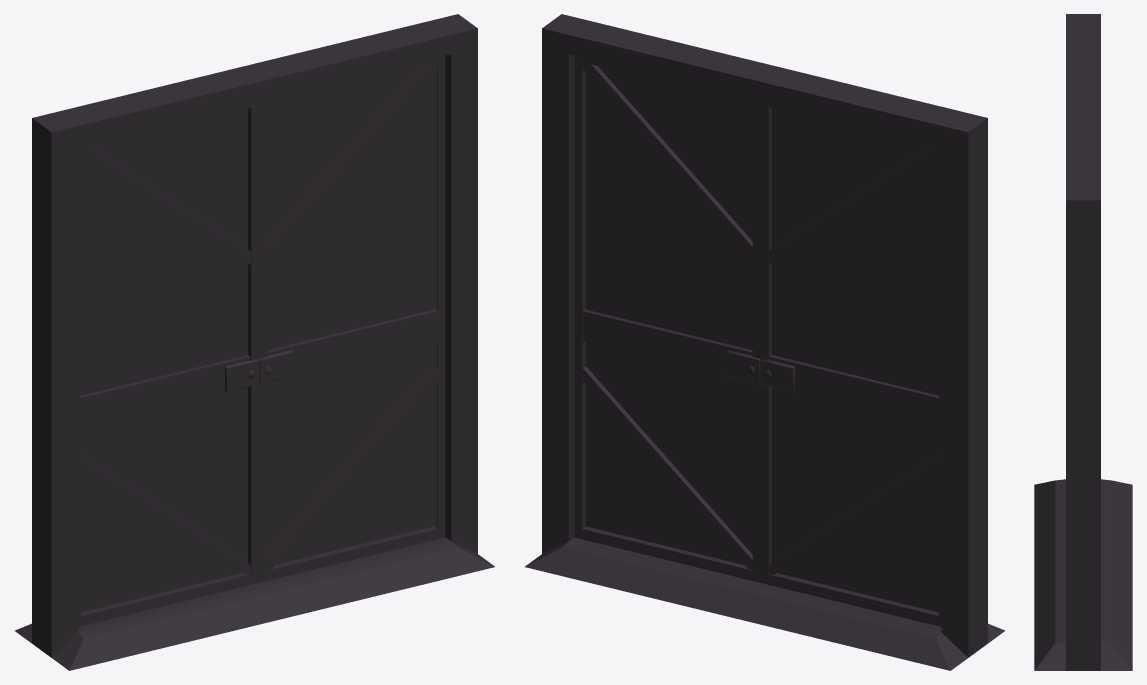
Rendered from new dveri.fbx.
3 renders of one model, left to right at view 1: azimuth 30°, elevation 25°; view 2: azimuth 150°, elevation 25°; view 3: azimuth 270°, elevation 25°, orthographic. The views are drawn at different scales.
Parts seen in each view (by area): view 1: _aa21ab0dd81437a94ac40133b706b85_obj_cleaner_materialmerger_, Doorway_Baked_002_2; view 2: _aa21ab0dd81437a94ac40133b706b85_obj_cleaner_materialmerger_, Doorway_Baked_002_2; view 3: Doorway_Baked_002_2.
Part boxes in pixels (x1,y1,x2,y2): _aa21ab0dd81437a94ac40133b706b85_obj_cleaner_materialmerger_: [78, 55, 445, 626]; Doorway_Baked_002_2: [14, 14, 494, 670]; _aa21ab0dd81437a94ac40133b706b85_obj_cleaner_materialmerger_: [574, 55, 941, 626]; Doorway_Baked_002_2: [525, 14, 1005, 670]; Doorway_Baked_002_2: [1034, 14, 1132, 670].
Size of the model in its own units: 74.82 by 88.18 by 16.71.
